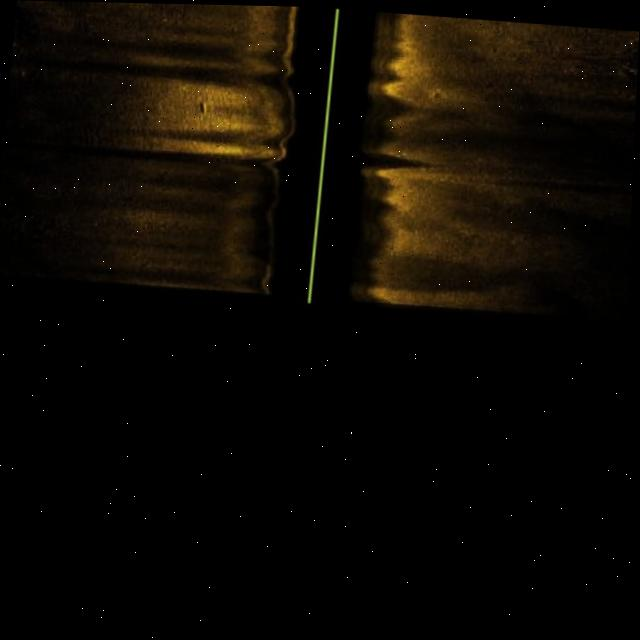mine: (197, 97, 211, 114)
